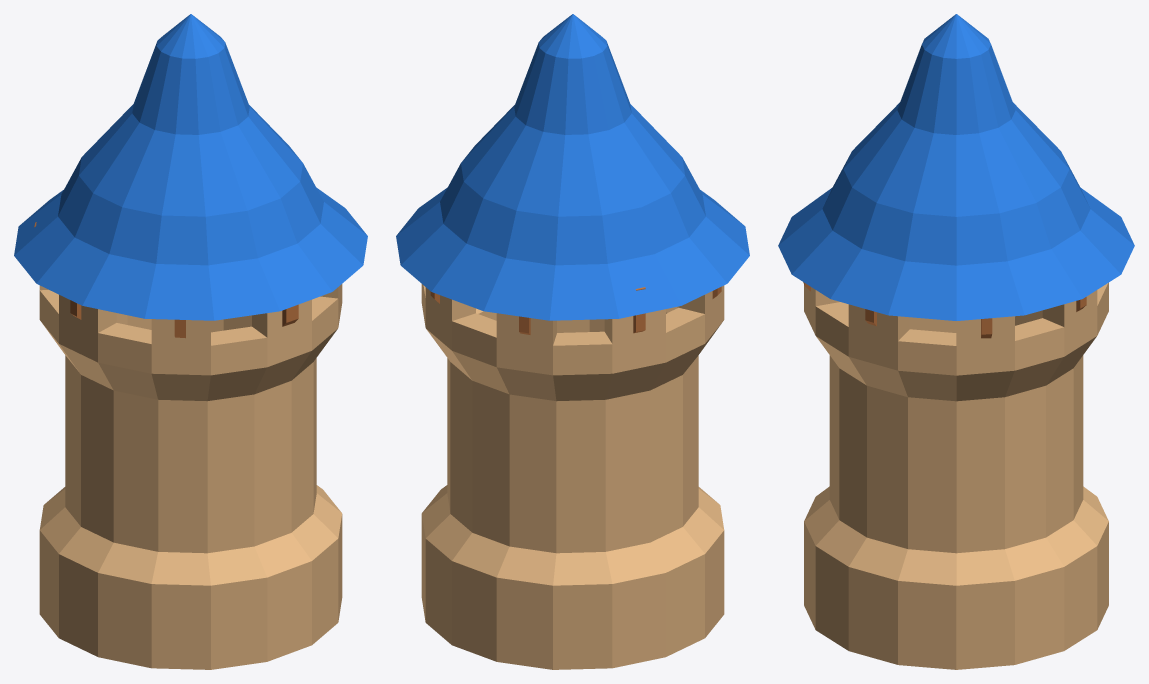
The model's file is WallTower.fbx.
3 renders of one model, left to right at view 1: azimuth 30°, elevation 25°; view 2: azimuth 150°, elevation 25°; view 3: azimuth 270°, elevation 25°, orthographic.
Parts seen in each view (by area): view 1: TowerBody, TowerHat; view 2: TowerBody, TowerHat; view 3: TowerBody, TowerHat.
Boxes of the visible parts, x1=… form: TowerBody: x1=39, y1=284, x2=342, y2=669; TowerHat: x1=14, y1=14, x2=367, y2=320; TowerBody: x1=421, y1=284, x2=724, y2=669; TowerHat: x1=396, y1=14, x2=749, y2=320; TowerBody: x1=804, y1=282, x2=1108, y2=669; TowerHat: x1=778, y1=14, x2=1134, y2=320.
Size of what is drawn, in the model's own units: 363 by 664 by 363.
